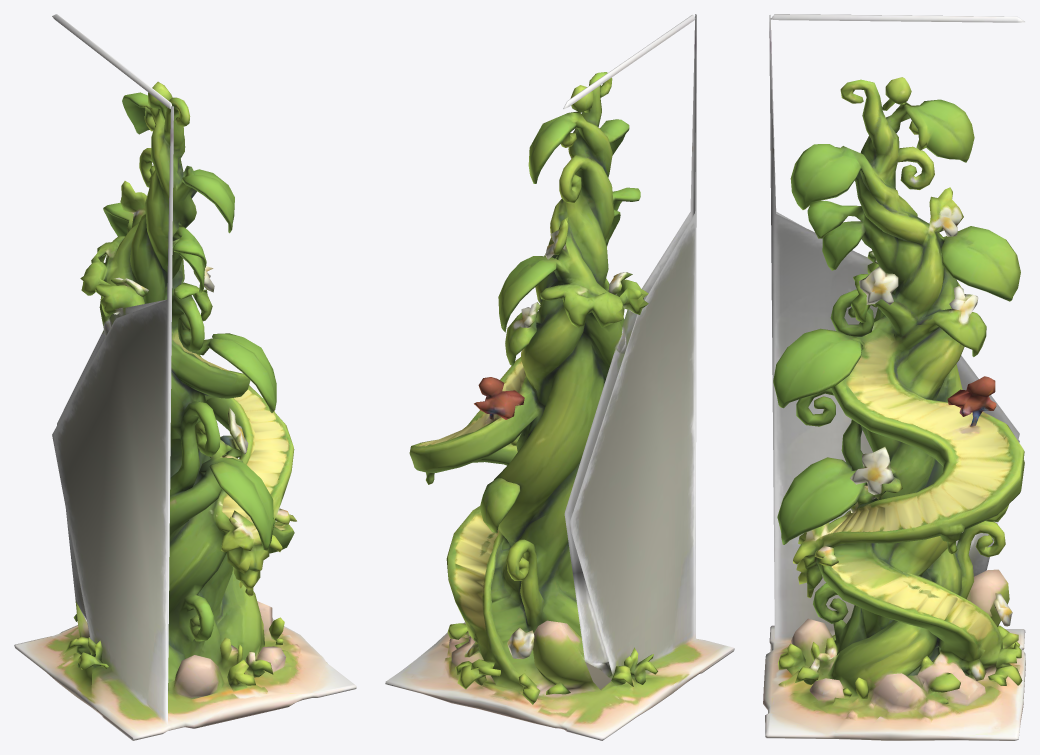
3 renders of one model, left to right at view 1: azimuth 30°, elevation 25°; view 2: azimuth 150°, elevation 25°; view 3: azimuth 270°, elevation 25°, orthographic.
Visible parts, largest first — view 1: tripo_node_1873444e-ecfe-40a7-bf9f-76aa379d27d7; view 2: tripo_node_1873444e-ecfe-40a7-bf9f-76aa379d27d7; view 3: tripo_node_1873444e-ecfe-40a7-bf9f-76aa379d27d7.
Part boxes in pixels (x1,y1,x2,y2): tripo_node_1873444e-ecfe-40a7-bf9f-76aa379d27d7: (14, 14, 356, 740); tripo_node_1873444e-ecfe-40a7-bf9f-76aa379d27d7: (385, 14, 734, 740); tripo_node_1873444e-ecfe-40a7-bf9f-76aa379d27d7: (763, 14, 1025, 740).
Bounding box in the file's own units: 0.3804 × 1 × 0.3754.
Materials: 1 (1 with a texture image).
